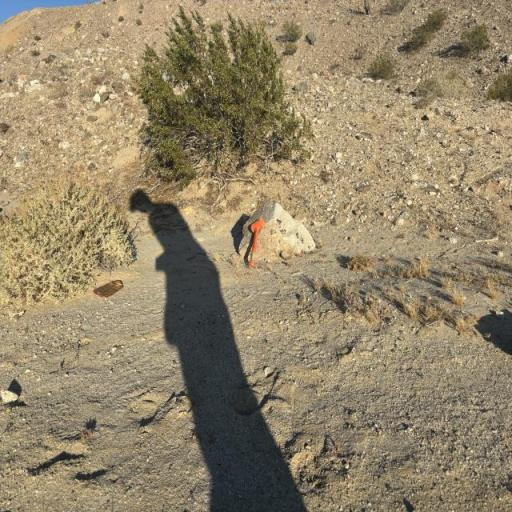mallet: (242, 212, 270, 276)
